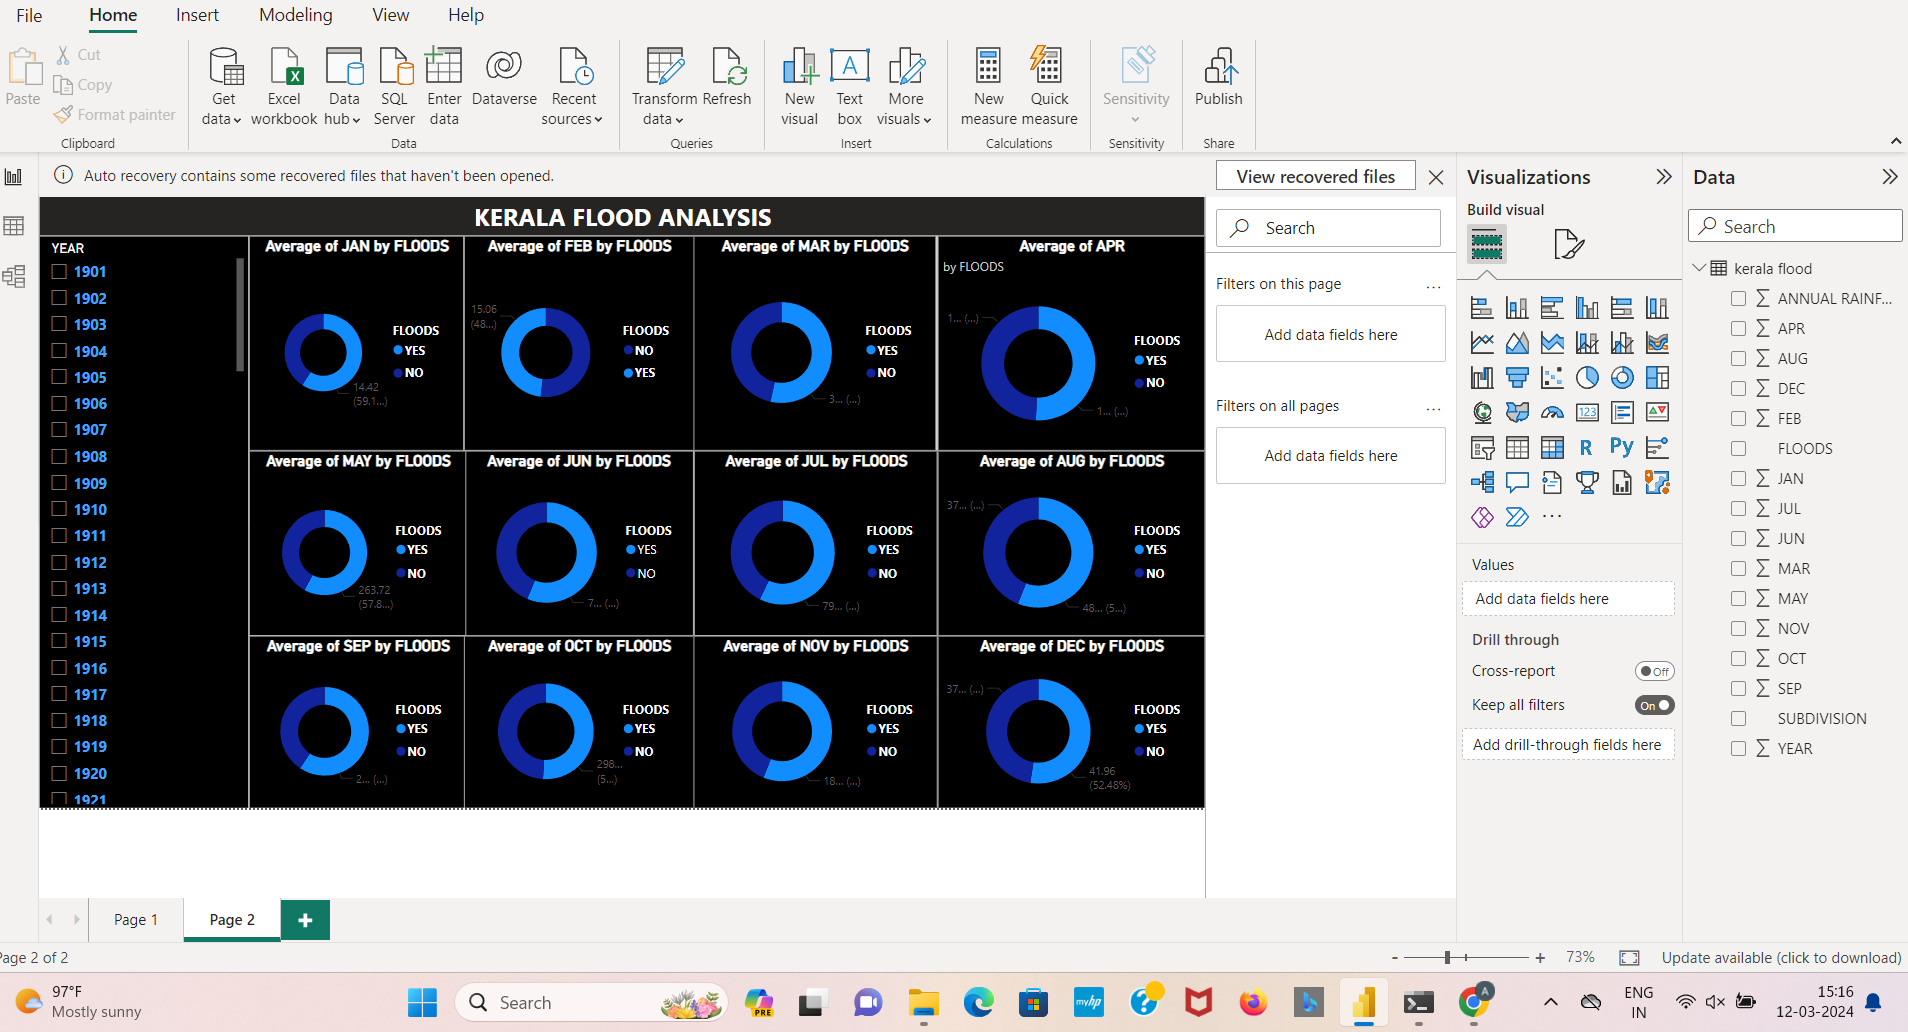

The dashboard page shown, as its layout file describes it:
{"tool":"powerbi","page":{"name":"Page 2","canvas":[1280,720],"ordinal":1},"visuals":[{"type":"donutChart","fields":{"Category":["kerala flood.FLOODS"],"Y":["Avg(kerala flood.JAN)"]},"box":[230.5,91.9,236,236],"z":0},{"type":"donutChart","fields":{"Category":["kerala flood.FLOODS"],"Y":["Avg(kerala flood.NOV)"]},"box":[717.7,531,269,189.4],"z":1},{"type":"donutChart","fields":{"Category":["kerala flood.FLOODS"],"Y":["Avg(kerala flood.MAR)"]},"box":[717.7,91.9,267.6,236],"z":2},{"type":"donutChart","fields":{"Category":["kerala flood.FLOODS"],"Y":["Avg(kerala flood.SEP)"]},"box":[230.5,531,238.8,189.4],"z":3},{"type":"donutChart","fields":{"Category":["kerala flood.FLOODS"],"Y":["Avg(kerala flood.JUN)"]},"box":[465.2,328,253.9,203.1],"z":4},{"type":"donutChart","fields":{"Category":["kerala flood.FLOODS"],"Y":["Avg(kerala flood.JUL)"]},"box":[719,328,267.6,203.1],"z":5},{"type":"donutChart","fields":{"Category":["kerala flood.FLOODS"],"Y":["Avg(kerala flood.OCT)"]},"box":[466.6,531,252.5,189.4],"z":6},{"type":"donutChart","fields":{"Category":["kerala flood.FLOODS"],"Y":["Avg(kerala flood.MAY)"]},"box":[230.5,328,238.8,203.1],"z":7},{"type":"slicer","fields":{"Values":["kerala flood.YEAR"]},"box":[0,91.9,230.5,628.5],"z":8},{"type":"donutChart","fields":{"Category":["kerala flood.FLOODS"],"Y":["Avg(kerala flood.FEB)"]},"box":[466.6,91.9,252.5,236],"z":9},{"type":"donutChart","fields":{"Category":["kerala flood.FLOODS"],"Y":["Avg(kerala flood.APR)"]},"box":[986.6,91.9,293.7,236],"z":10},{"type":"donutChart","fields":{"Category":["kerala flood.FLOODS"],"Y":["Avg(kerala flood.AUG)"]},"box":[986.6,328,293.7,203.1],"z":11},{"type":"donutChart","fields":{"Y":["Avg(kerala flood.DEC)"],"Category":["kerala flood.FLOODS"]},"box":[986.6,531,293.7,189.4],"z":12},{"type":"textbox","box":[0,46.7,1280.3,45.3],"z":13}]}

Visuals, with their boxes on the page's 1280x720 design canvas (x1, y1, x2, y2). These are canvas units, not pixel positions in the 1908x1032 screenshot, which may show the page scaled, cropped or inside an application window:
donutChart - kerala flood.FLOODS x Avg(kerala flood.JAN): [left=230, top=92, right=466, bottom=328]
donutChart - kerala flood.FLOODS x Avg(kerala flood.NOV): [left=718, top=531, right=987, bottom=720]
donutChart - kerala flood.FLOODS x Avg(kerala flood.MAR): [left=718, top=92, right=985, bottom=328]
donutChart - kerala flood.FLOODS x Avg(kerala flood.SEP): [left=230, top=531, right=469, bottom=720]
donutChart - kerala flood.FLOODS x Avg(kerala flood.JUN): [left=465, top=328, right=719, bottom=531]
donutChart - kerala flood.FLOODS x Avg(kerala flood.JUL): [left=719, top=328, right=987, bottom=531]
donutChart - kerala flood.FLOODS x Avg(kerala flood.OCT): [left=467, top=531, right=719, bottom=720]
donutChart - kerala flood.FLOODS x Avg(kerala flood.MAY): [left=230, top=328, right=469, bottom=531]
slicer - kerala flood.YEAR: [left=0, top=92, right=230, bottom=720]
donutChart - kerala flood.FLOODS x Avg(kerala flood.FEB): [left=467, top=92, right=719, bottom=328]
donutChart - kerala flood.FLOODS x Avg(kerala flood.APR): [left=987, top=92, right=1280, bottom=328]
donutChart - kerala flood.FLOODS x Avg(kerala flood.AUG): [left=987, top=328, right=1280, bottom=531]
donutChart - Avg(kerala flood.DEC) x kerala flood.FLOODS: [left=987, top=531, right=1280, bottom=720]
textbox: [left=0, top=47, right=1280, bottom=92]
